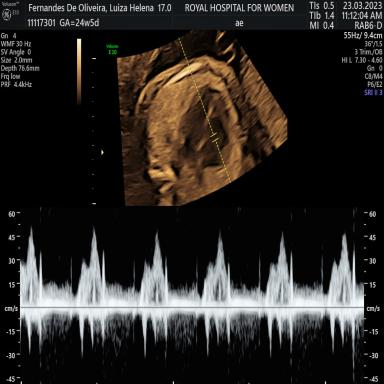Ultrasound-Waves: (24, 209, 359, 384)
